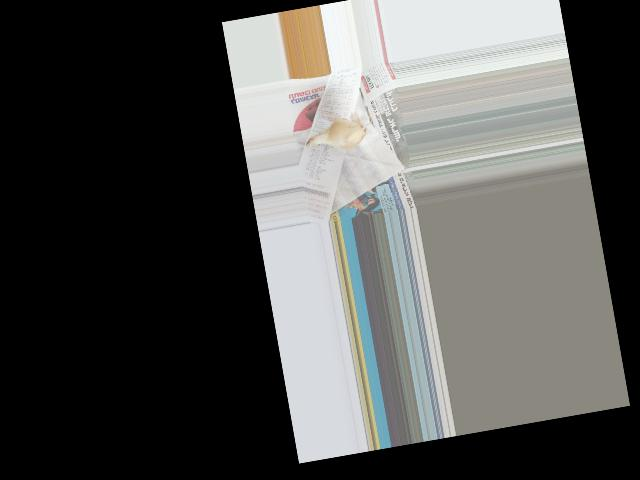onion: (321, 115, 363, 153)
